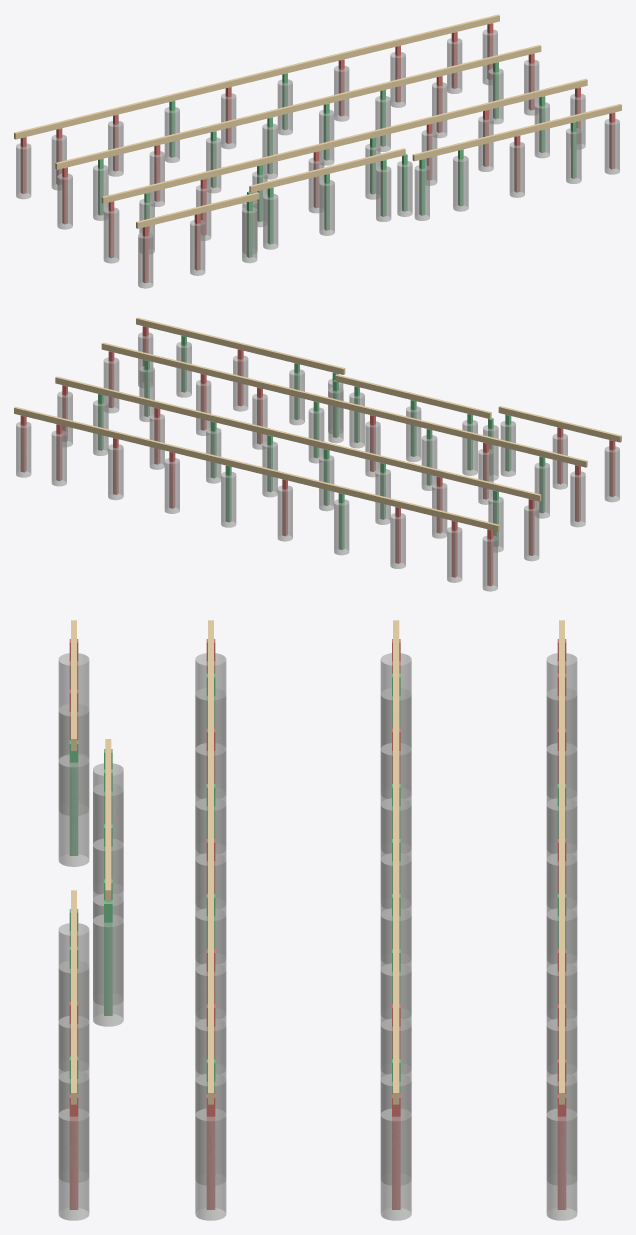
3 renders of one model, top to bottom at view 1: azimuth 30°, elevation 25°; view 2: azimuth 150°, elevation 25°; view 3: azimuth 270°, elevation 25°, orthographic. The views are drawn at different scales.
Parts seen in each view (by area): view 1: __delivery_mesh_159, __delivery_mesh_155, __delivery_mesh_157, __delivery_mesh_162, __delivery_mesh_161, __delivery_mesh_121, __delivery_mesh_160, FD-L10-FTG-B1-01, FD-L10-FTG-B2-01, FD-L10-FTG-B4-01, FD-L10-FTG-B4-10, FD-L10-FTG-B4-05 (+44 smaller); view 2: __delivery_mesh_156, __delivery_mesh_158, FD-L10-BRG-B1-S1-L1, FD-L10-BRG-B4-S3-L1, FD-L10-BRG-B4-S2-L1, FD-L10-BRG-B4-S1-L1, FD-L10-FTG-B1-05, __delivery_mesh_100, FD-L10-FTG-B1-01, FD-L10-FTG-B4-01, __delivery_mesh_106, FD-L10-FTG-B1-10 (+46 smaller); view 3: __delivery_mesh_143, __delivery_mesh_139, FD-L10-FTG-B2-10, FD-L10-FTG-B1-10, FD-L10-FTG-B4-13, FD-L10-FTG-B4-08, FD-L10-FTG-B2-06, FD-L10-FTG-B2-02, FD-L10-FTG-B2-05, FD-L10-FTG-B2-07, __delivery_mesh_112, FD-L10-FTG-B2-03 (+43 smaller).
Part boxes in pixels (x1=…): __delivery_mesh_159: x1=102, y1=79, x2=587, y2=203; __delivery_mesh_155: x1=14, y1=15, x2=499, y2=139; __delivery_mesh_157: x1=56, y1=45, x2=541, y2=169; __delivery_mesh_162: x1=413, y1=104, x2=621, y2=161; __delivery_mesh_161: x1=250, y1=148, x2=405, y2=192; __delivery_mesh_121: x1=103, y1=207, x2=119, y2=263; __delivery_mesh_160: x1=136, y1=193, x2=259, y2=228; FD-L10-FTG-B1-01: x1=16, y1=143, x2=31, y2=199; FD-L10-FTG-B2-01: x1=57, y1=173, x2=72, y2=229; FD-L10-FTG-B4-01: x1=138, y1=232, x2=153, y2=288; FD-L10-FTG-B4-10: x1=453, y1=155, x2=468, y2=211; FD-L10-FTG-B4-05: x1=263, y1=193, x2=278, y2=249; __delivery_mesh_156: x1=55, y1=377, x2=540, y2=501; __delivery_mesh_158: x1=101, y1=343, x2=586, y2=467; FD-L10-BRG-B1-S1-L1: x1=14, y1=407, x2=499, y2=531; FD-L10-BRG-B4-S3-L1: x1=136, y1=318, x2=344, y2=374; FD-L10-BRG-B4-S2-L1: x1=335, y1=375, x2=490, y2=418; FD-L10-BRG-B4-S1-L1: x1=498, y1=406, x2=621, y2=442; FD-L10-FTG-B1-05: x1=277, y1=485, x2=292, y2=541; __delivery_mesh_100: x1=334, y1=499, x2=349, y2=555; FD-L10-FTG-B1-01: x1=482, y1=535, x2=497, y2=591; FD-L10-FTG-B4-01: x1=604, y1=446, x2=619, y2=502; __delivery_mesh_106: x1=51, y1=430, x2=66, y2=486; FD-L10-FTG-B1-10: x1=16, y1=421, x2=31, y2=477; __delivery_mesh_143: x1=58, y1=754, x2=89, y2=866; __delivery_mesh_139: x1=195, y1=1108, x2=226, y2=1220; FD-L10-FTG-B2-10: x1=380, y1=1108, x2=411, y2=1220; FD-L10-FTG-B1-10: x1=546, y1=1108, x2=577, y2=1220; FD-L10-FTG-B4-13: x1=58, y1=1108, x2=89, y2=1220; FD-L10-FTG-B4-08: x1=93, y1=914, x2=123, y2=1026; FD-L10-FTG-B2-06: x1=380, y1=908, x2=411, y2=1018; FD-L10-FTG-B2-02: x1=380, y1=688, x2=411, y2=798; FD-L10-FTG-B2-05: x1=380, y1=853, x2=411, y2=963; FD-L10-FTG-B2-07: x1=380, y1=963, x2=411, y2=1073; __delivery_mesh_112: x1=380, y1=798, x2=411, y2=908; FD-L10-FTG-B2-03: x1=380, y1=743, x2=411, y2=853.
Size of the model in its own units: 16.3 by 2.09 by 7.56.
